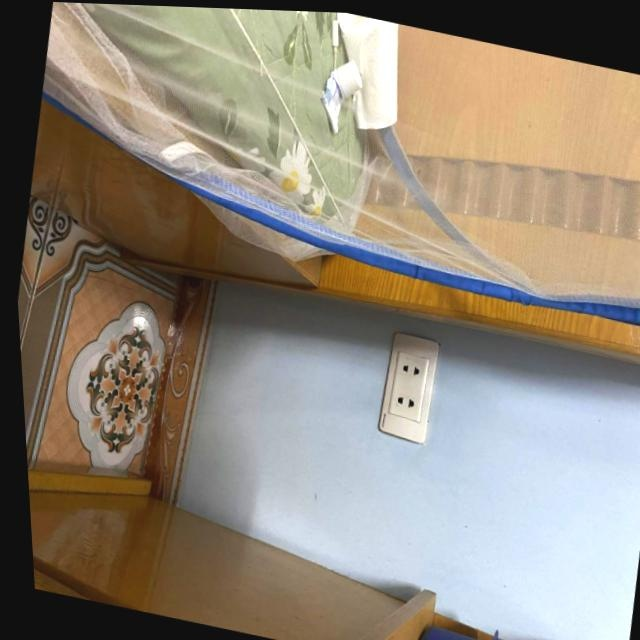outlet: (370, 328, 445, 446)
